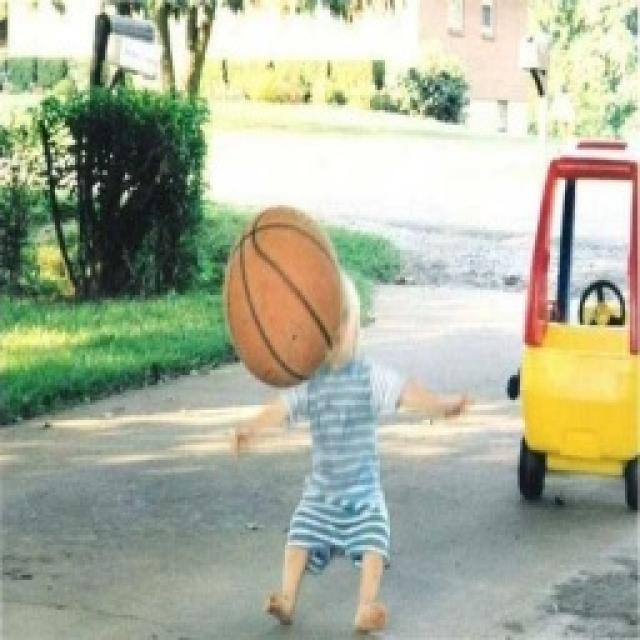rim: (219, 198, 351, 392)
